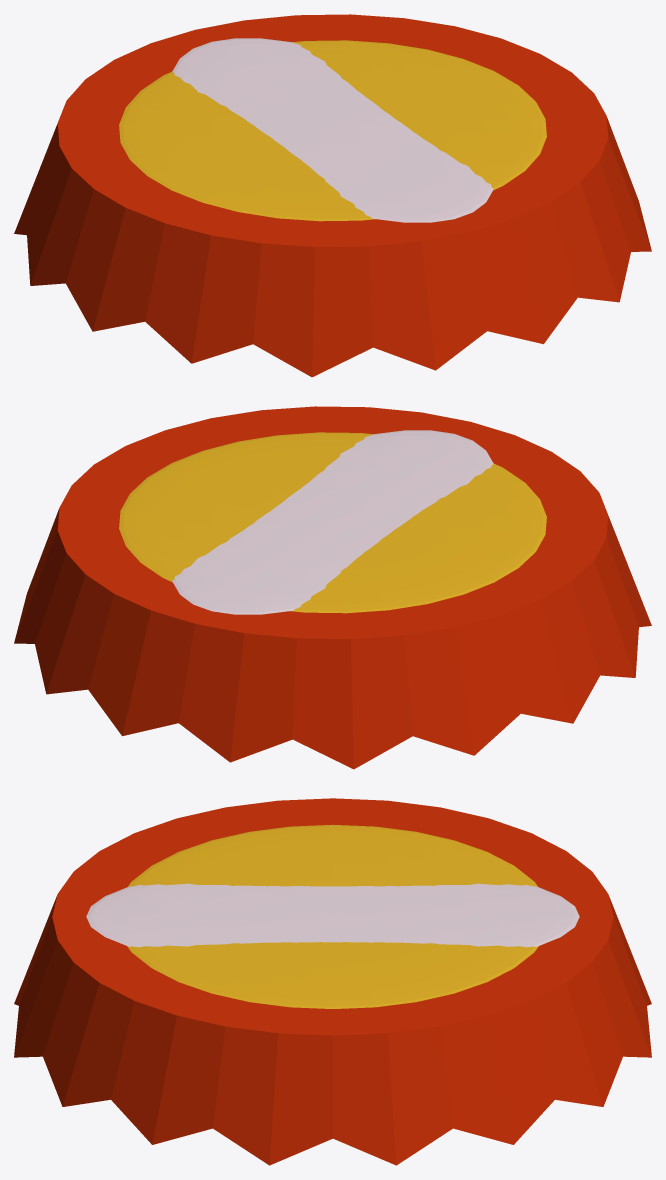
File: BottleCap.fbx
3 views of the same model, one above another, from view 1: azimuth 30°, elevation 25°; view 2: azimuth 150°, elevation 25°; view 3: azimuth 270°, elevation 25° (orthographic).
Visible parts, largest first — view 1: Cylinder, Sphere, Sphere.001; view 2: Cylinder, Sphere, Sphere.001; view 3: Cylinder, Sphere, Sphere.001.
Boxes of the visible parts, x1,y1,x2,y2 form: Cylinder: (14, 14, 651, 377); Sphere: (119, 40, 546, 221); Sphere.001: (172, 38, 493, 222); Cylinder: (14, 406, 651, 769); Sphere: (119, 432, 546, 613); Sphere.001: (172, 430, 493, 614); Cylinder: (14, 798, 651, 1165); Sphere: (127, 824, 538, 1008); Sphere.001: (86, 883, 579, 947).
Size of the model in its own units: 203 by 41.1 by 203.
